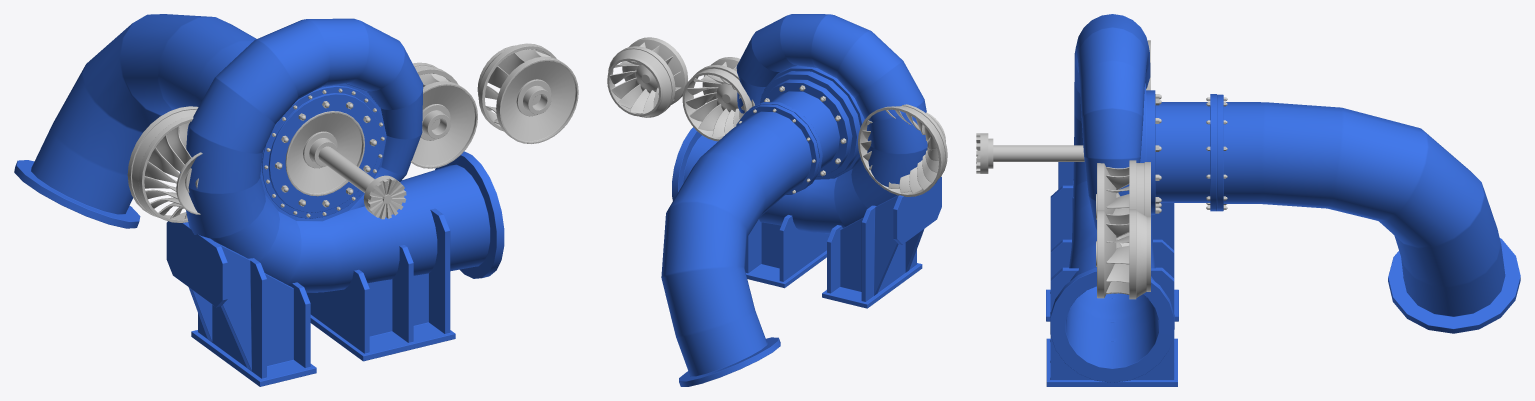
File: TurbinasHidraulicas.fbx
3 renders of one model, left to right at view 1: azimuth 30°, elevation 25°; view 2: azimuth 150°, elevation 25°; view 3: azimuth 270°, elevation 25°, orthographic. The views are drawn at different scales.
Parts seen in each view (by area): view 1: Pipes, TurbinaLenta, TurbinaExtra, TurbinaNormal, TurbinaRapida, Shaft, Bolts; view 2: Pipes, TurbinaLenta, TurbinaNormal, TurbinaExtra, Bolts; view 3: Pipes, TurbinaLenta, TurbinaNormal, Shaft, Bolts.
Part boxes in pixels (x1,y1,x2,y2): Pipes: [14, 14, 504, 386]; TurbinaLenta: [477, 43, 578, 143]; TurbinaExtra: [127, 106, 202, 222]; TurbinaNormal: [411, 62, 477, 168]; TurbinaRapida: [285, 111, 364, 196]; Shaft: [318, 146, 406, 219]; Bolts: [264, 88, 384, 217]; Pipes: [661, 14, 941, 386]; TurbinaLenta: [607, 37, 687, 117]; TurbinaNormal: [682, 57, 754, 141]; TurbinaExtra: [858, 104, 947, 196]; Bolts: [738, 85, 846, 193]; Pipes: [1046, 14, 1520, 386]; TurbinaLenta: [1096, 209, 1150, 299]; TurbinaNormal: [1096, 160, 1150, 219]; Shaft: [976, 133, 1084, 173]; Bolts: [1155, 94, 1227, 213].
Size of the model in its own units: 411 by 297 by 474.
